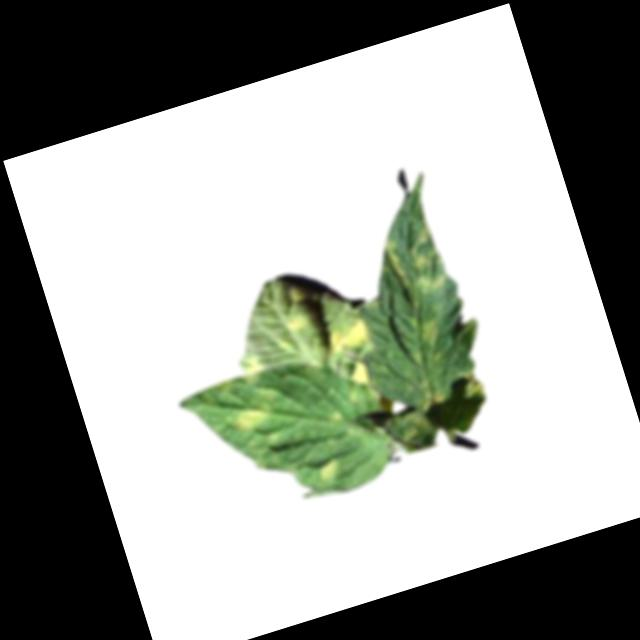Leaf_Mold: (380, 218, 456, 311), (222, 384, 285, 435), (319, 309, 377, 360), (414, 315, 445, 352), (342, 357, 375, 390), (312, 454, 344, 486), (236, 347, 268, 379), (283, 309, 309, 335)
